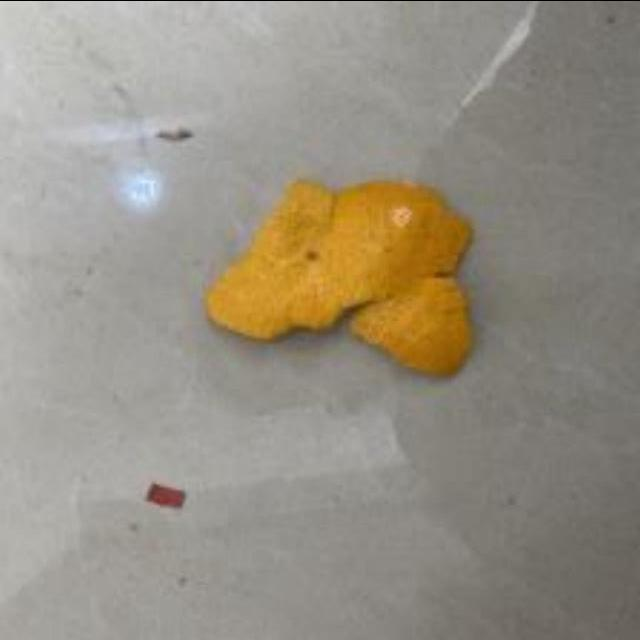orange peel: (204, 162, 474, 390)
